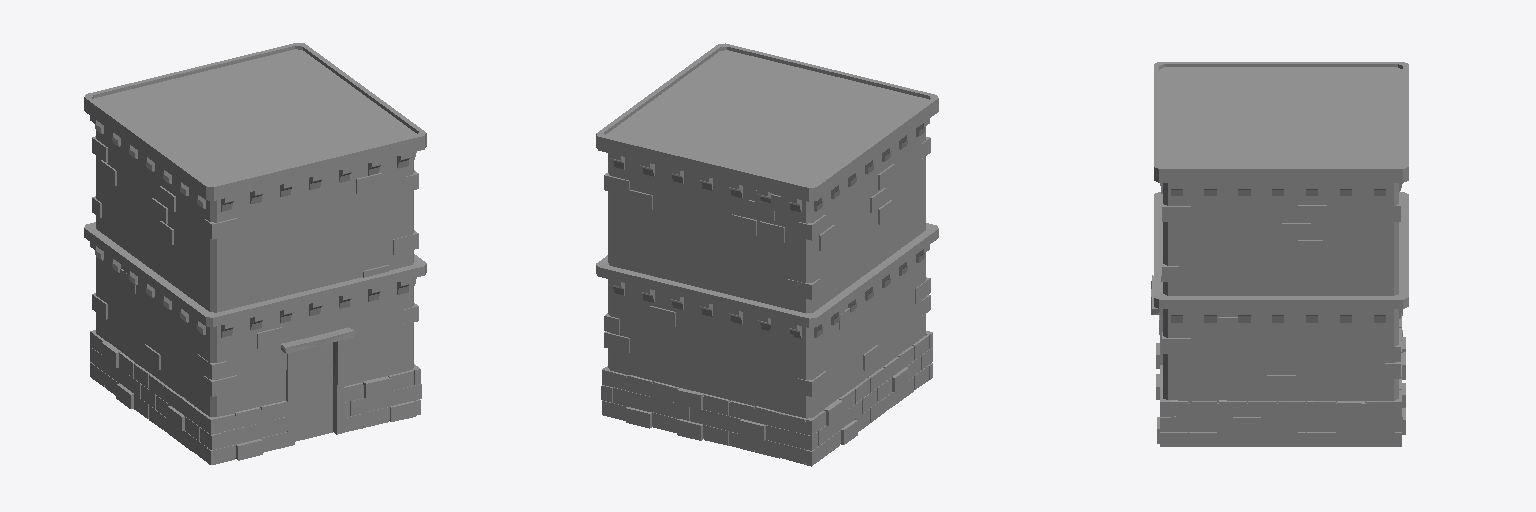
File: 2Story_Base.obj
3 views of the same model, side by side, from view 1: azimuth 30°, elevation 25°; view 2: azimuth 150°, elevation 25°; view 3: azimuth 270°, elevation 25° (orthographic).
Visible parts, largest first — view 1: 2Story_Base_Cube.056; view 2: 2Story_Base_Cube.056; view 3: 2Story_Base_Cube.056.
Boxes of the visible parts, x1,y1,x2,y2 form: 2Story_Base_Cube.056: [84, 43, 426, 464]; 2Story_Base_Cube.056: [596, 43, 938, 466]; 2Story_Base_Cube.056: [1151, 62, 1408, 446].
Size of the model in its own units: 2.16 by 2.62 by 2.17.